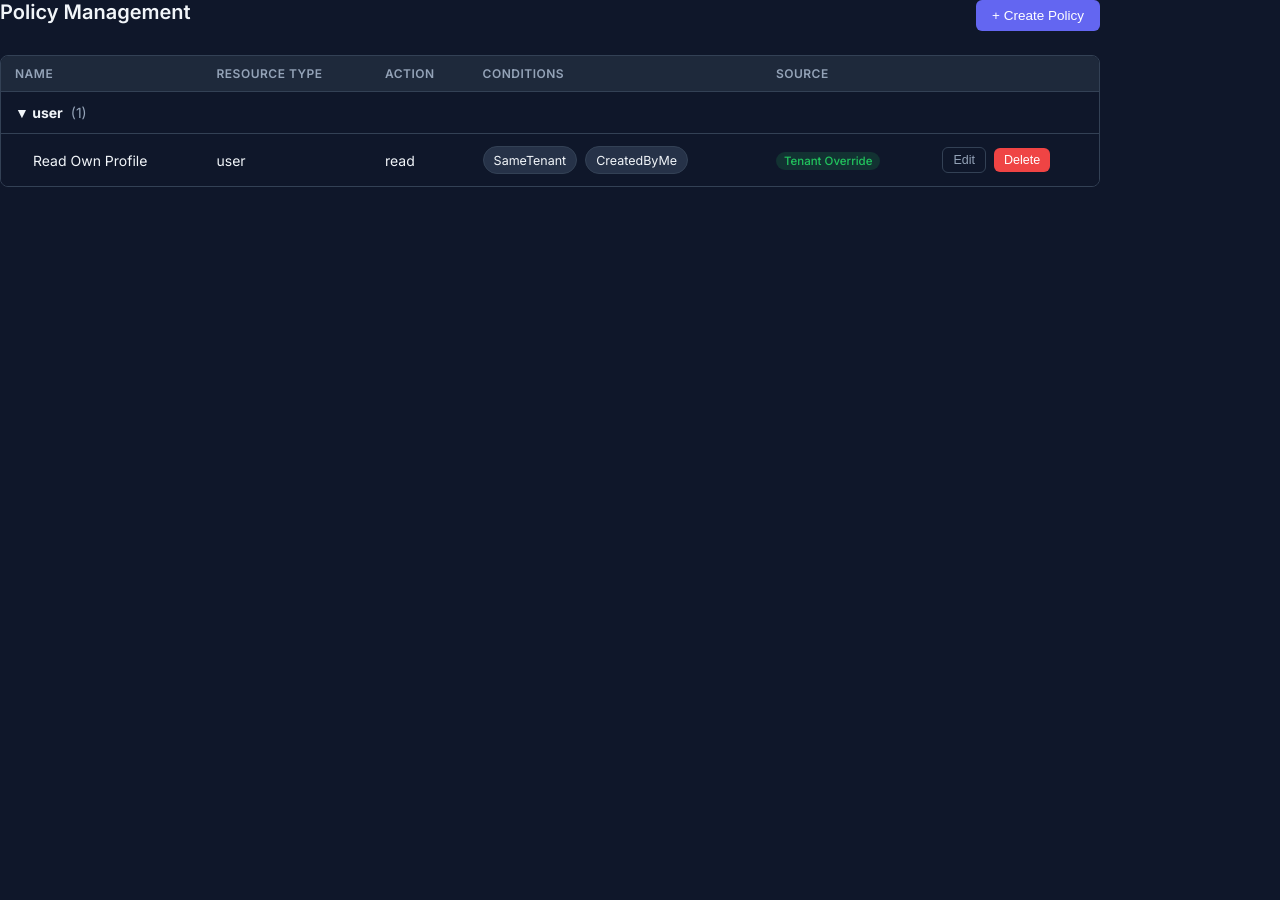
Test: PolicyManagementPage › opens Edit modal when clicking Edit on a tenant override row
Expected: the text "Read Own Profile" is shown, [1,134,202,186]
Click the button "Edit" at (964, 160), box [942,147,986,173]
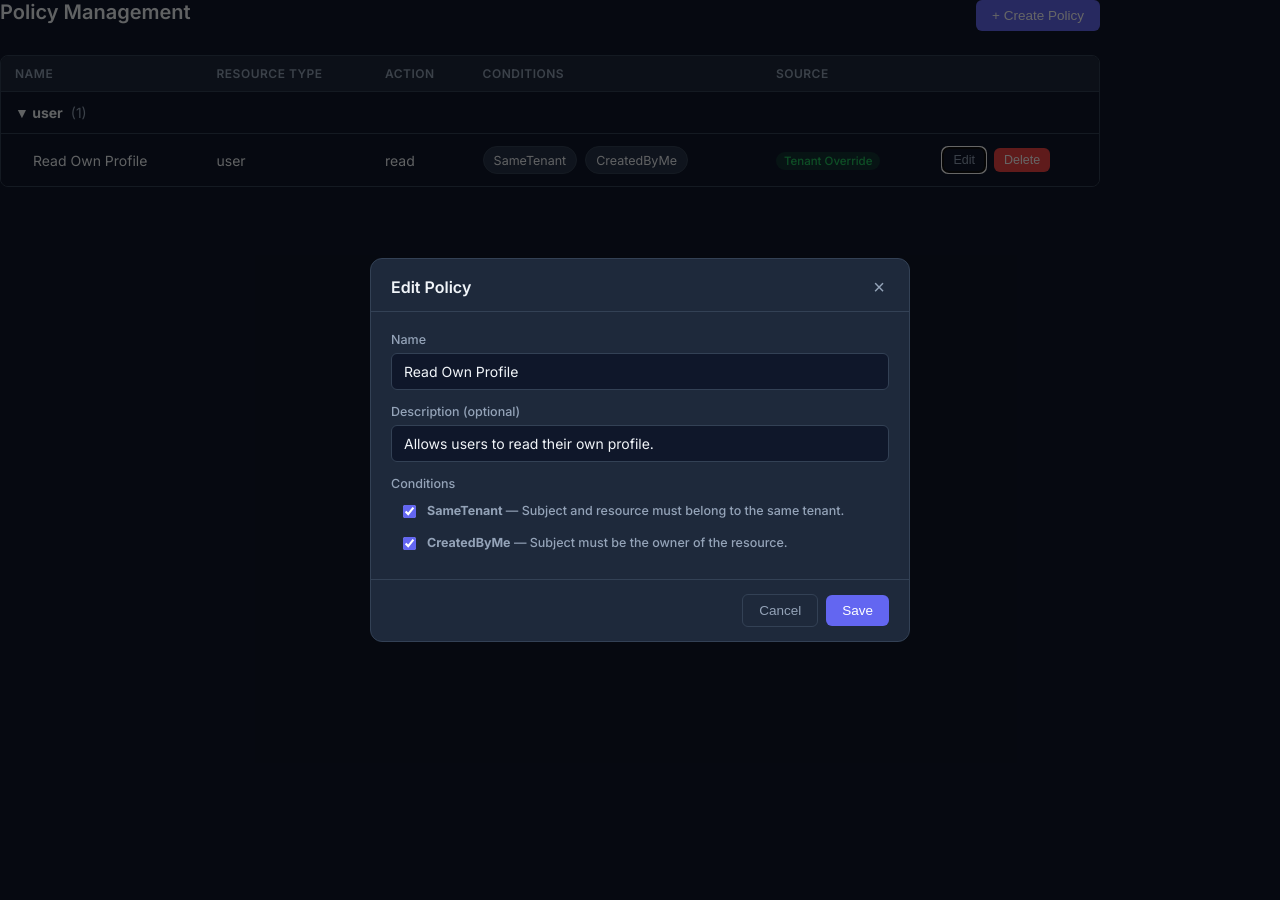
Now the heading "Edit Policy" is shown, box [391,277,471,297]
